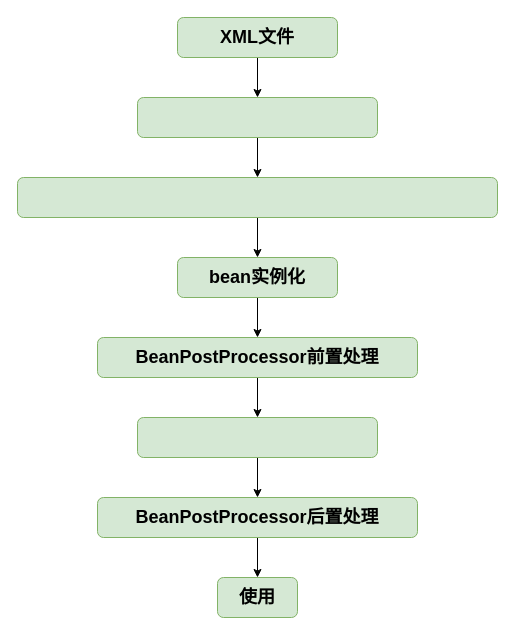
This 515x635 diagram has some shape labels left out. The centre of each missing label's shape, as x and y in pixels:
"BeanDefinition" goes at pixel 257 117.
"BeanFactoryPostProcessor修改BeanDefinition" goes at pixel 257 197.
"执行bean的初始化方法" goes at pixel 257 437.
